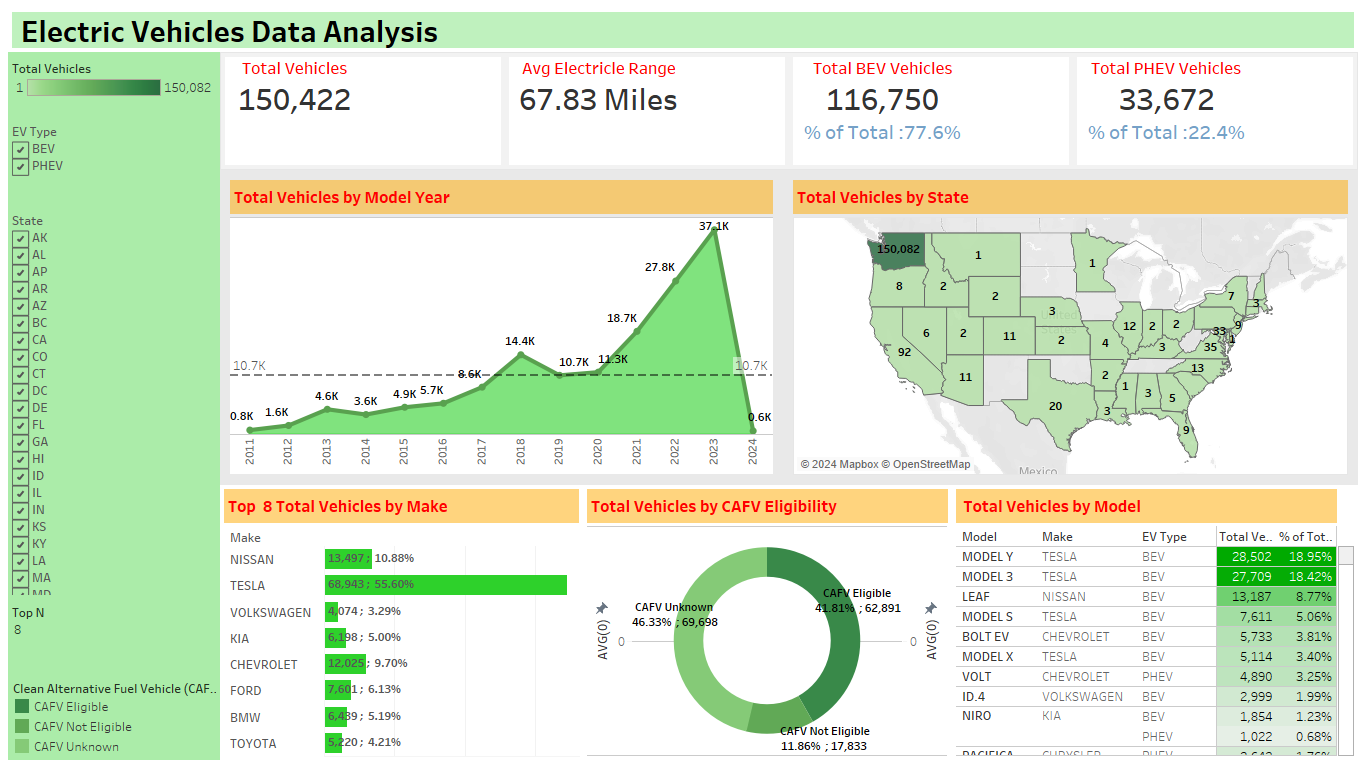

What the dashboard file says about the page in this screenshot:
{"tool":"tableau","page":{"name":"Dashboard 1","canvas":[1366,768],"ordinal":0},"visuals":[{"type":"title","box":[8,8,1350,43.8]},{"type":"legend","title":"Total Vehicles by State","param":"[federated.1pw2tvh0peep0g15rdz2r0td79uw].[usr:Calculation_1510113255964037120:qk","box":[8,51.8,211.8,65]},{"type":"worksheet","title":"Total Vehicles","mark":"Automatic","box":[221,53,284,116]},{"type":"worksheet","title":"Avg Electricle Range","mark":"Automatic","box":[505,53,284,116]},{"type":"worksheet","title":"Total BEV Vehicles","mark":"Automatic","box":[789,53,284,116]},{"type":"worksheet","title":"Total PHEV Vehicles","mark":"Automatic","box":[1073,53,284,116]},{"type":"filter","title":"Top 10 Total Vehicles by Make","param":"[federated.1pw2tvh0peep0g15rdz2r0td79uw].[none:Electric Vehicle Type:nk]","box":[8,116.8,211.8,89]},{"type":"worksheet","title":"Total Vehicles by Model Year ","mark":"Area","rows":["Calculation_1510113255964037120","Calculation_1510113255964037120"],"cols":["Model Year"],"box":[219.8,169.8,563,315.2]},{"type":"worksheet","title":"Total Vehicles by State","mark":"Multipolygon","box":[782.8,169.8,575.2,315.2]},{"type":"filter","title":"Top 10 Total Vehicles by Make","param":"[federated.1pw2tvh0peep0g15rdz2r0td79uw].[none:State:nk]","box":[8,205.8,211.8,393.2]},{"type":"worksheet","title":"Top 10 Total Vehicles by Make","mark":"Automatic","rows":["Make"],"cols":["Calculation_1510113255964037120"],"box":[219.8,485,363.2,275]},{"type":"worksheet","title":"Total Vehicles by CAFV Eligibility","mark":"Pie","rows":["Calculation_1510113255984029705","Calculation_1510113255984029705"],"box":[583,485,369,275]},{"type":"worksheet","title":" Total Vehicles by Model","mark":"Square","rows":["Model","Make","Electric Vehicle Type"],"box":[952,485,406,275]},{"type":"parameter","param":"[Parameters].[Parameter 1]","box":[8,599,211.8,75]},{"type":"legend","title":"Total Vehicles by CAFV Eligibility","param":"[federated.1pw2tvh0peep0g15rdz2r0td79uw].[none:Clean Alternative Fuel Vehicle (C","box":[8,674,211.8,86]}]}

Visuals, with their boxes in screenshot pixels (x1, y1, x2, y2), scaled from the page's 1366x768 canvas onto the 1366x768 screenshot:
title: 8, 8, 1358, 52
"Total Vehicles by State" legend: 8, 52, 220, 117
"Total Vehicles" worksheet: 221, 53, 505, 169
"Avg Electricle Range" worksheet: 505, 53, 789, 169
"Total BEV Vehicles" worksheet: 789, 53, 1073, 169
"Total PHEV Vehicles" worksheet: 1073, 53, 1357, 169
"Top 10 Total Vehicles by Make" filter: 8, 117, 220, 206
"Total Vehicles by Model Year " worksheet (Area marks): 220, 170, 783, 485
"Total Vehicles by State" worksheet (Multipolygon marks): 783, 170, 1358, 485
"Top 10 Total Vehicles by Make" filter: 8, 206, 220, 599
"Top 10 Total Vehicles by Make" worksheet: 220, 485, 583, 760
"Total Vehicles by CAFV Eligibility" worksheet (Pie marks): 583, 485, 952, 760
" Total Vehicles by Model" worksheet (Square marks): 952, 485, 1358, 760
parameter: 8, 599, 220, 674
"Total Vehicles by CAFV Eligibility" legend: 8, 674, 220, 760
